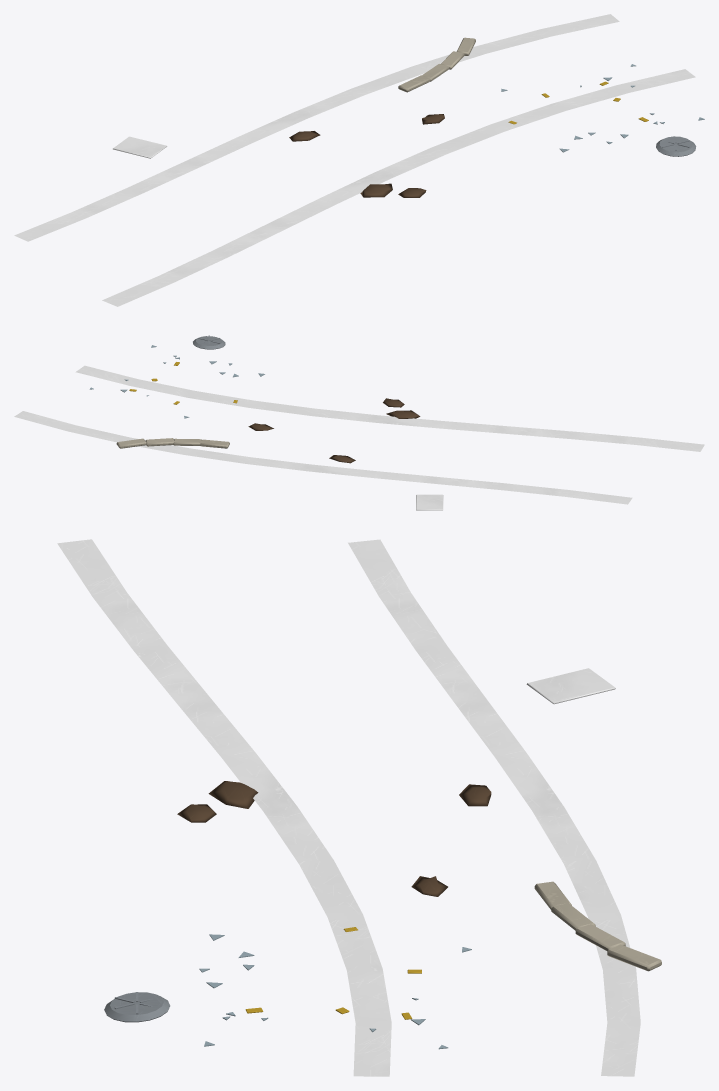
The model's file is skid_marks_debris.glb.
3 renders of one model, top to bottom at view 1: azimuth 30°, elevation 25°; view 2: azimuth 150°, elevation 25°; view 3: azimuth 270°, elevation 25°, orthographic. The views are drawn at different scales.
Parts seen in each view (by area): view 1: skid_marks_debris; view 2: skid_marks_debris; view 3: skid_marks_debris.
Boxes of the visible parts, <box> form: skid_marks_debris: <box>14,14,704,306</box>; skid_marks_debris: <box>14,335,704,510</box>; skid_marks_debris: <box>57,539,661,1076</box>.
Bounding box in the file's own units: 7.03 × 0.0616 × 3.34.
Materials: 8 (8 with a texture image).
